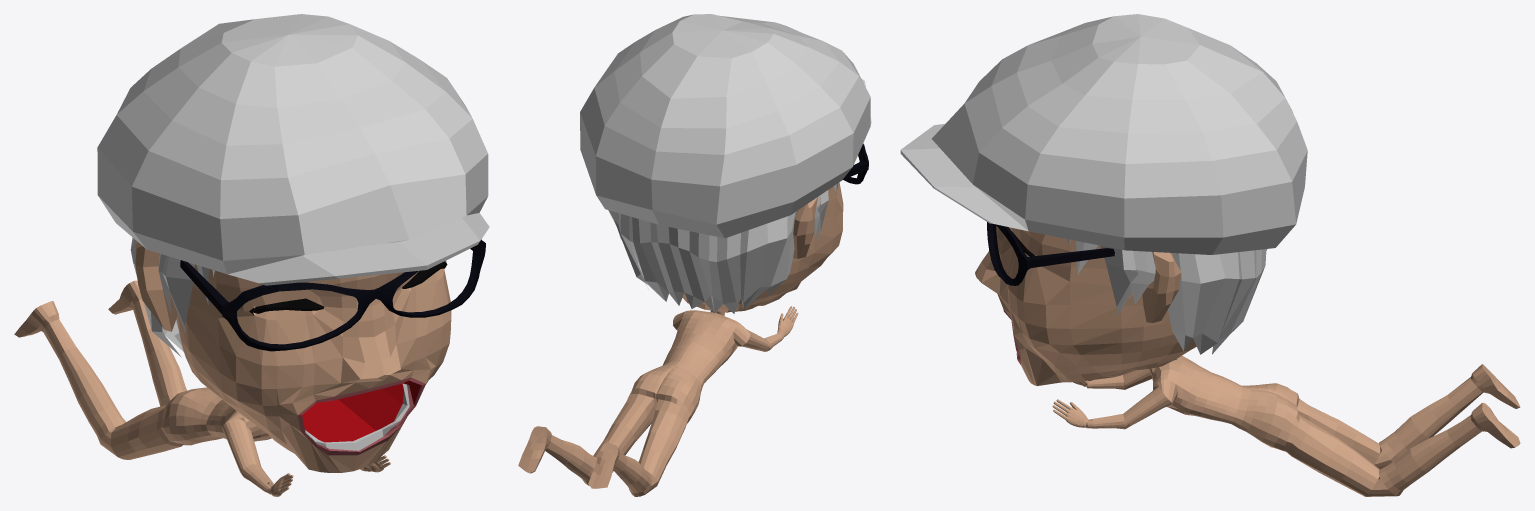
Rendered from face_body_fix.obj.
3 renders of one model, left to right at view 1: azimuth 30°, elevation 25°; view 2: azimuth 150°, elevation 25°; view 3: azimuth 270°, elevation 25°, orthographic. The views are drawn at different scales.
Visible parts, largest first — view 1: huku_face_Cube.002; view 2: huku_face_Cube.002; view 3: huku_face_Cube.002.
Part boxes in pixels (left/top/right/bottom): huku_face_Cube.002: left=14, top=14, right=489, bottom=496; huku_face_Cube.002: left=518, top=14, right=871, bottom=496; huku_face_Cube.002: left=900, top=14, right=1520, bottom=496.
Bounding box in the file's own units: 0.5226 × 0.7673 × 0.9662.
